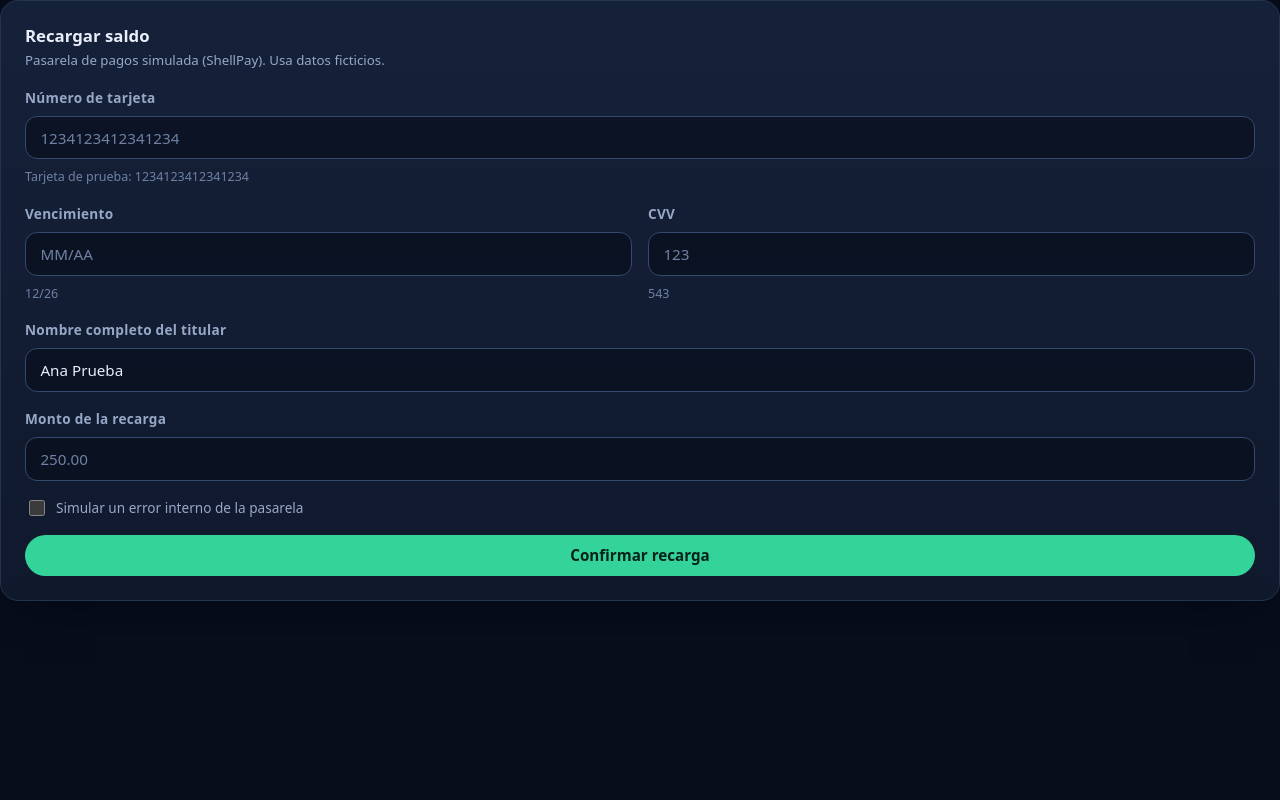
Test: TopUpForm › limita la tarjeta a 16 dígitos y el titular a letras
Type "1234a1234 12341234-9999" into the field labelled "Número de tarjeta" at [640, 138], box [25, 116, 1255, 159]
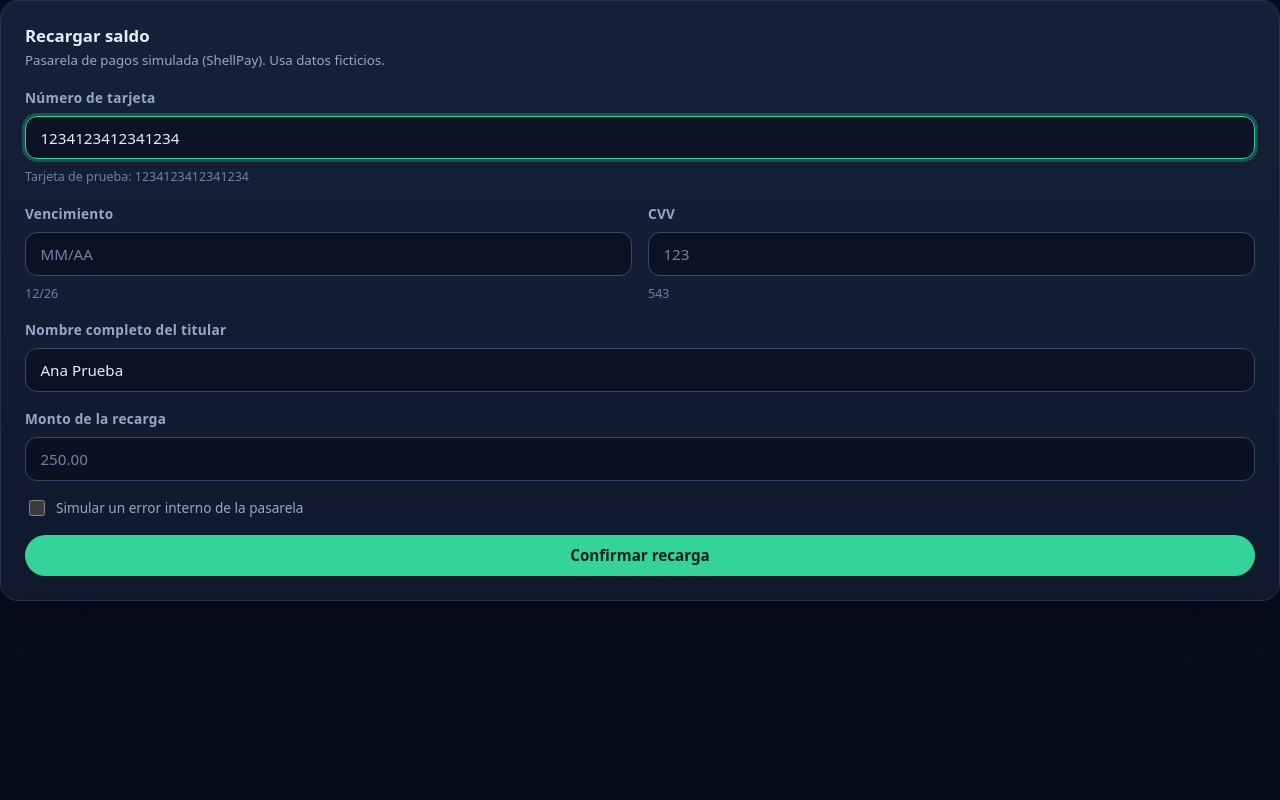
Expected: the field labelled "Número de tarjeta" holds "1234123412341234", [25, 116, 1255, 159]
Replace the text in the field labelled "Nombre completo del titular" with "Ana3 Prueba!" at [640, 370], box [25, 348, 1255, 392]
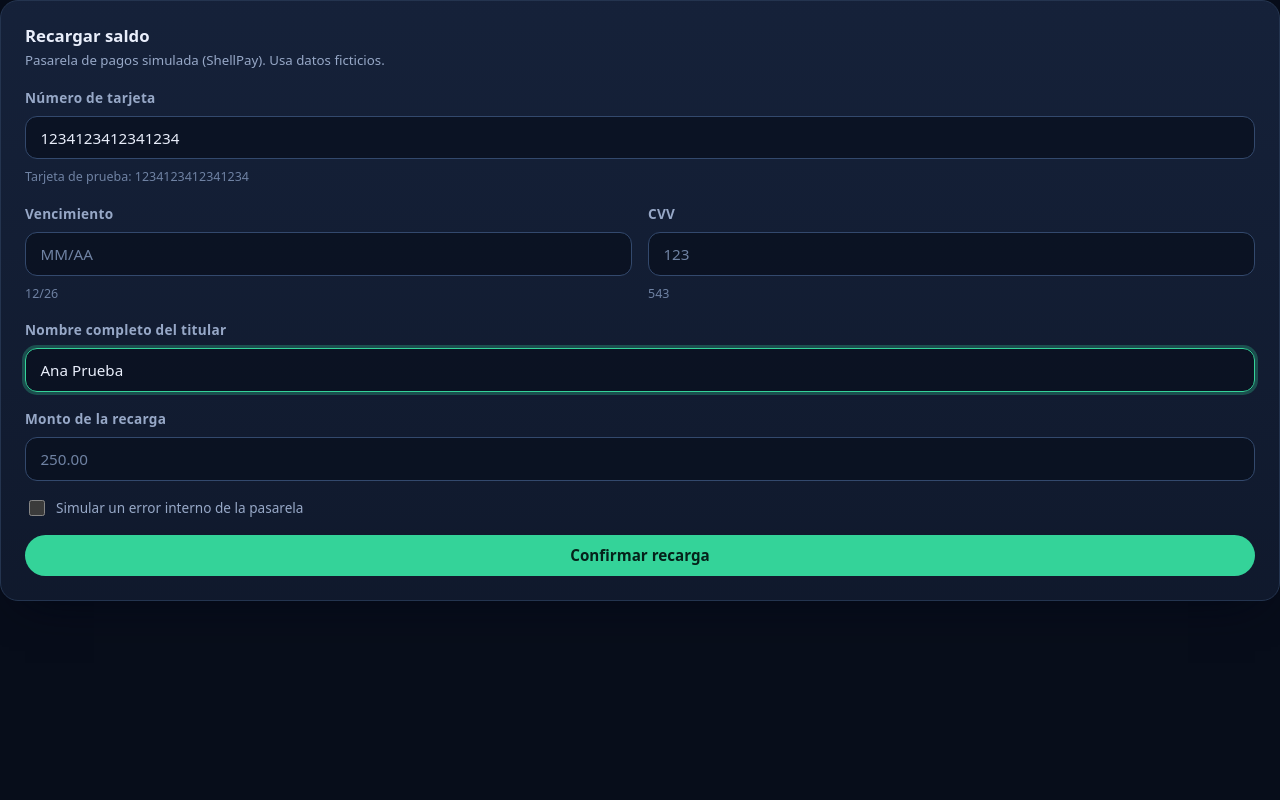
Expected: the field labelled "Nombre completo del titular" holds "Ana Prueba", [25, 348, 1255, 392]
